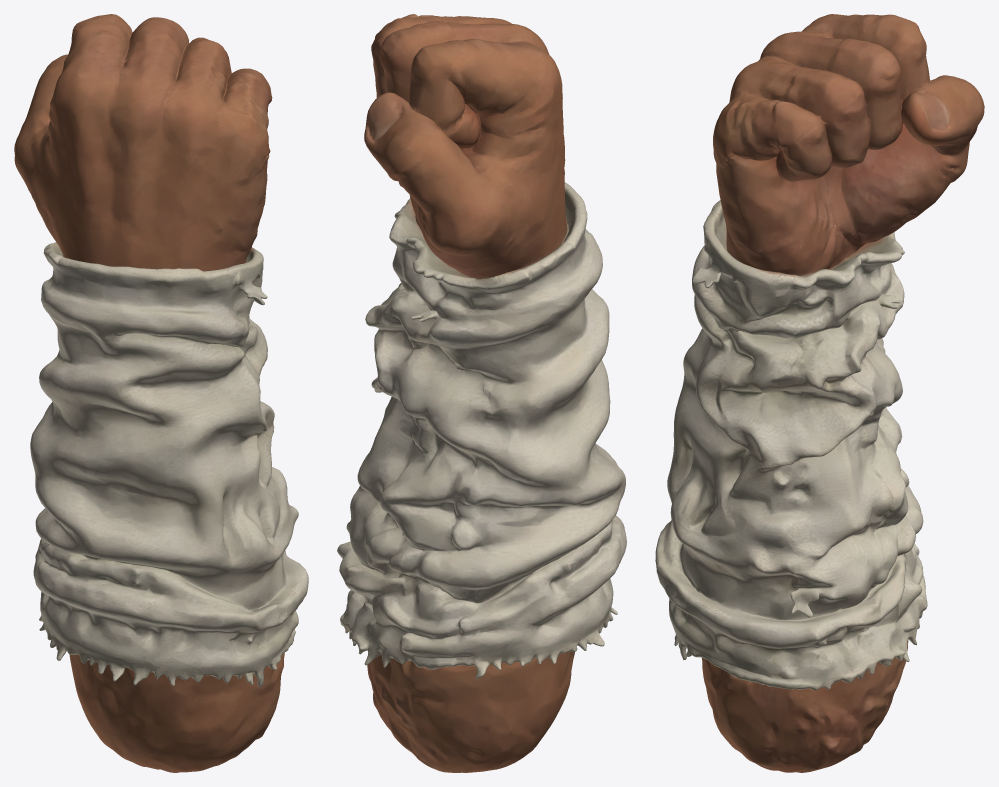
3 renders of one model, left to right at view 1: azimuth 30°, elevation 25°; view 2: azimuth 150°, elevation 25°; view 3: azimuth 270°, elevation 25°, orthographic. The views are drawn at different scales.
Visible parts, largest first — view 1: tripo_node_b5f0d2fb-436e-4c50-bc9a-832922db1540; view 2: tripo_node_b5f0d2fb-436e-4c50-bc9a-832922db1540; view 3: tripo_node_b5f0d2fb-436e-4c50-bc9a-832922db1540.
Boxes of the visible parts, x1,y1,x2,y2 form: tripo_node_b5f0d2fb-436e-4c50-bc9a-832922db1540: (14,14,308,772); tripo_node_b5f0d2fb-436e-4c50-bc9a-832922db1540: (337,14,626,772); tripo_node_b5f0d2fb-436e-4c50-bc9a-832922db1540: (655,14,984,772).
Size of the model in its own units: 0.3619 by 1 by 0.4106.
Materials: 1 (1 with a texture image).
